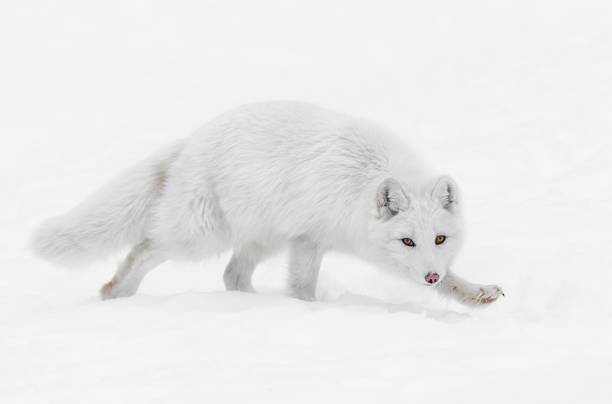arcticfox: (392, 207, 459, 290)
